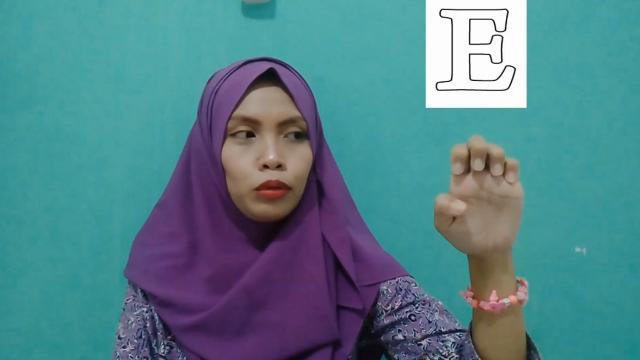E: (432, 136, 524, 261)
